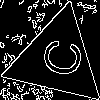C: (32, 34, 84, 80)
